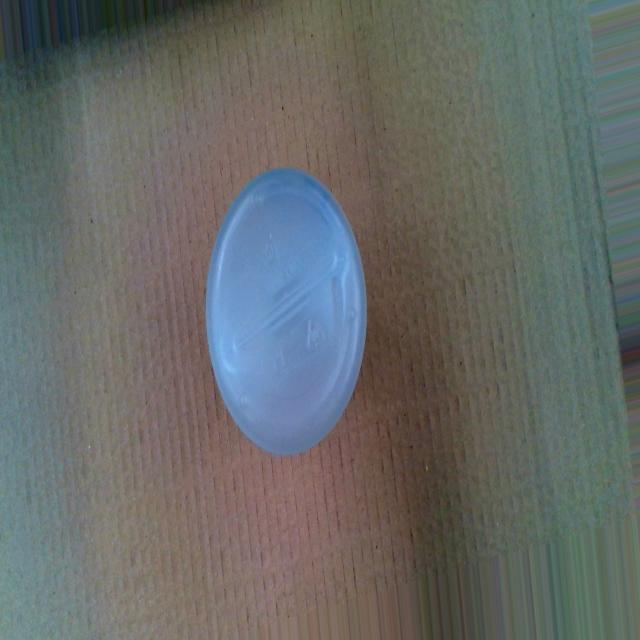bottle: (200, 162, 374, 464)
